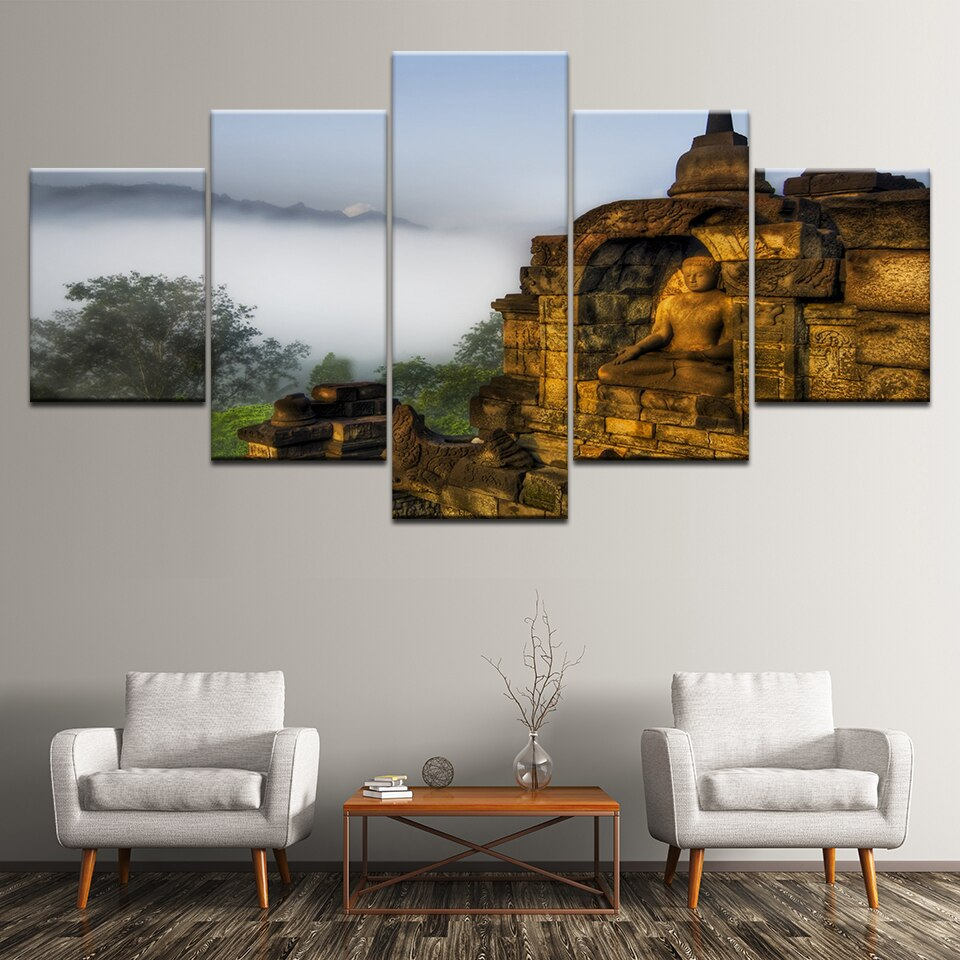buku: (361, 770, 414, 803)
lukisan: (388, 47, 572, 523), (570, 105, 753, 470), (209, 105, 389, 467), (30, 165, 208, 410), (755, 168, 934, 410)
meja: (340, 787, 626, 921)
sova: (46, 663, 325, 916), (639, 665, 918, 911)
tanaman: (499, 595, 575, 786)
